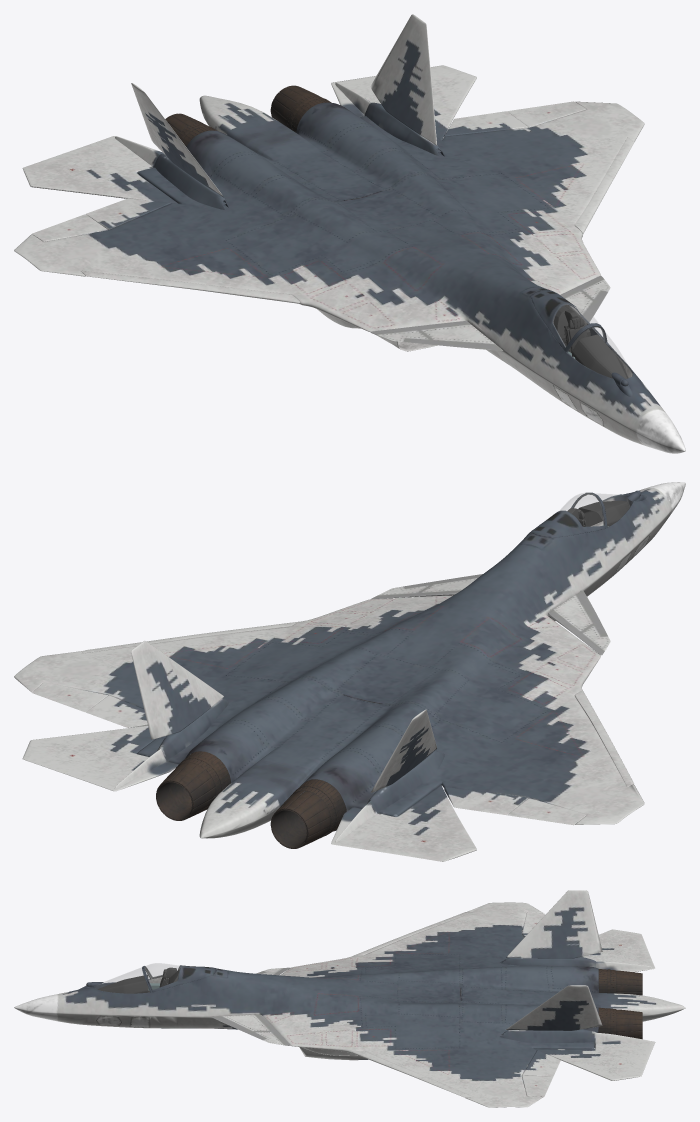
3 views of the same model, one above another, from view 1: azimuth 30°, elevation 25°; view 2: azimuth 150°, elevation 25°; view 3: azimuth 270°, elevation 25° (orthographic). The views are drawn at different scales.
Parts seen in each view (by area): view 1: Main_Body.001, Stab.001, L-vertical, Stab.002, R-vertical, Cube.044, Cube.005, Canopy01, Cube.045, Slat.001, L-engine, Cube.022 (+9 smaller); view 2: Main_Body.001, Stab.001, Stab.002, L-vertical, R-engine, L-engine, R-vertical, Cube.005, Cube.044, Cube.045, Flaps.002, Cube.054 (+9 smaller); view 3: Main_Body.001, R-vertical, Stab.002, L-vertical, Stab.001, Cube.045, L-engine, Cube.005, Cube.054, R-engine, Canopy01, Canopy03 (+6 smaller).
Boxes of the visible parts, x1,y1,x2,y2 form: Main_Body.001: [14, 95, 685, 453]; Stab.001: [22, 136, 177, 203]; L-vertical: [370, 14, 437, 145]; Stab.002: [331, 65, 476, 140]; R-vertical: [131, 83, 223, 197]; Cube.044: [371, 321, 502, 350]; Cube.005: [115, 136, 444, 209]; Canopy01: [568, 326, 631, 377]; Cube.045: [335, 82, 444, 155]; Slat.001: [81, 225, 582, 303]; L-engine: [270, 85, 331, 132]; Cube.022: [572, 334, 628, 378]; Main_Body.001: [14, 482, 685, 838]; Stab.001: [331, 785, 476, 861]; Stab.002: [22, 725, 178, 791]; L-vertical: [131, 640, 223, 739]; R-engine: [270, 779, 346, 848]; L-engine: [156, 751, 230, 820]; R-vertical: [370, 709, 436, 792]; Cube.005: [335, 750, 444, 842]; Cube.044: [548, 590, 610, 655]; Cube.045: [115, 698, 228, 788]; Flaps.002: [444, 787, 528, 814]; Cube.054: [371, 574, 482, 599]; Main_Body.001: [14, 902, 685, 1107]; R-vertical: [506, 890, 602, 958]; Stab.002: [535, 1041, 655, 1080]; L-vertical: [506, 985, 602, 1030]; Stab.001: [581, 929, 655, 972]; Cube.045: [500, 1029, 651, 1043]; L-engine: [598, 1007, 642, 1039]; Cube.005: [500, 957, 651, 1034]; Cube.054: [211, 1014, 290, 1045]; R-engine: [598, 969, 642, 995]; Canopy01: [95, 967, 149, 992]; Canopy03: [143, 965, 216, 992].
Size of the model in its own units: 12.37 by 2.78 by 17.17.
Materials: 6 (3 with a texture image).
